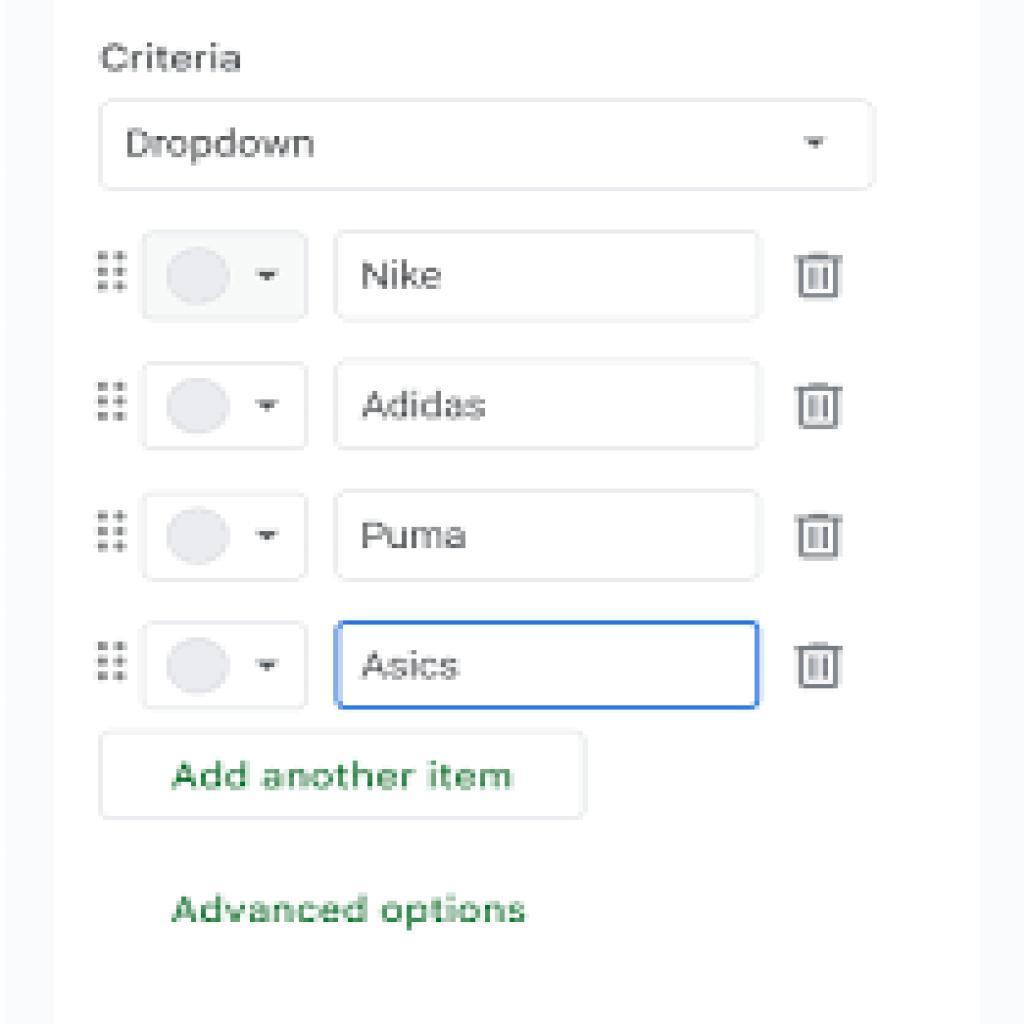button: (100, 732, 586, 819)
dropdown: (100, 104, 877, 192), (142, 232, 307, 321), (144, 362, 310, 450), (143, 494, 308, 580), (145, 623, 307, 710)
icon: (788, 635, 850, 697), (791, 247, 848, 304), (791, 378, 850, 433), (790, 510, 848, 561), (91, 635, 138, 695), (92, 504, 134, 560), (91, 245, 134, 299), (94, 375, 134, 431)
input: (335, 620, 761, 711), (337, 491, 759, 582), (335, 232, 760, 320), (335, 361, 758, 446)
label: (165, 890, 535, 934)
